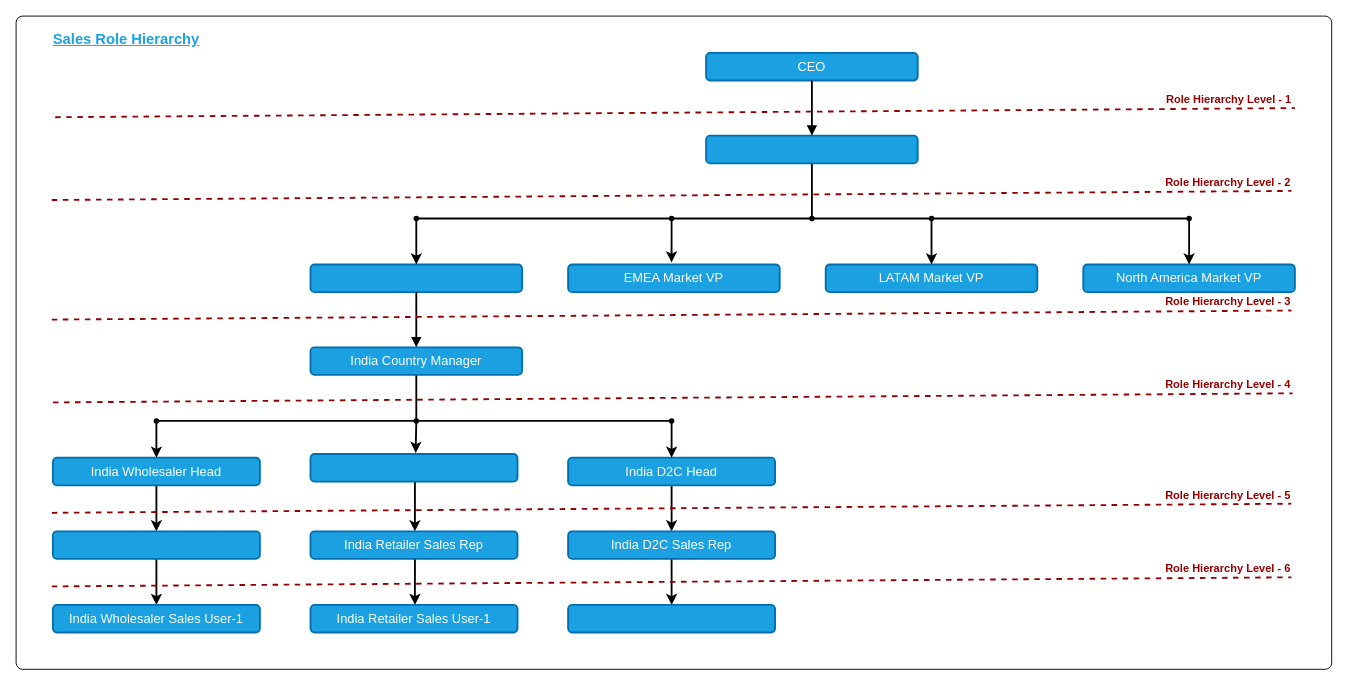
Image size: 1348x685. Some labels were removed from this diagram. The centre of each missing label's shape, as x and y in pixels:
APAC Market VP: pixel 416 278
Global Sales Head / CSO: pixel 811 149
India D2C Sales Rep User-1: pixel 671 618
India Retailer Head: pixel 413 467
India Wholesaler Sales Rep: pixel 156 544
